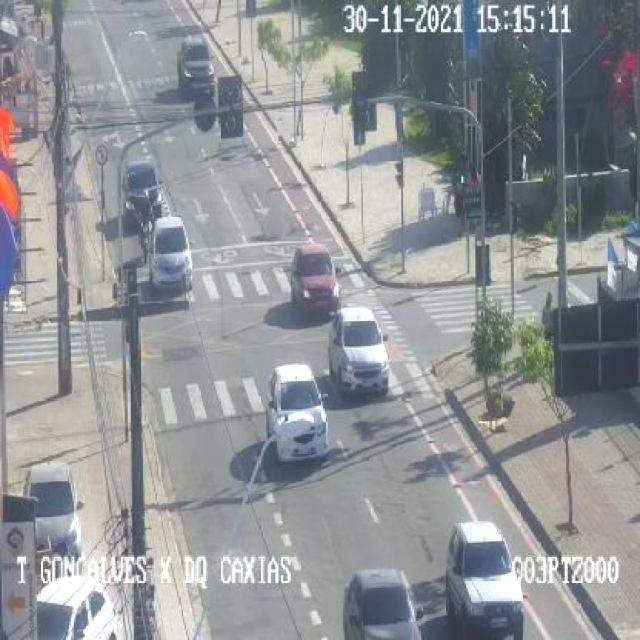Car: (444, 522, 524, 636), (261, 364, 338, 462), (22, 462, 84, 562), (342, 570, 422, 640), (330, 307, 391, 397), (35, 577, 120, 639), (288, 243, 339, 317), (148, 216, 193, 292), (124, 160, 164, 224), (177, 35, 215, 94), (194, 94, 218, 132)
